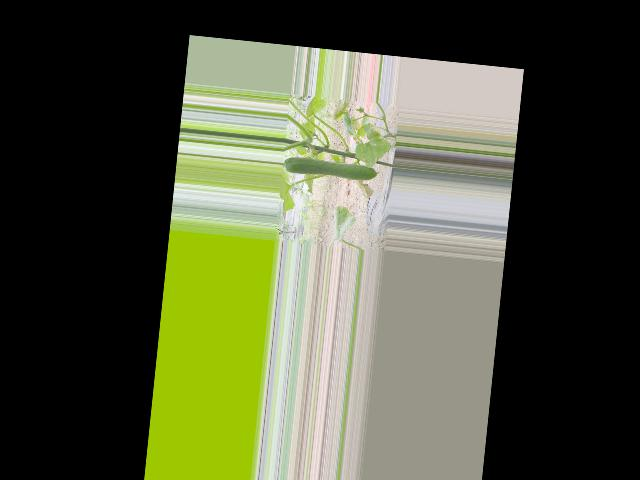cucumber: (283, 155, 380, 182)
